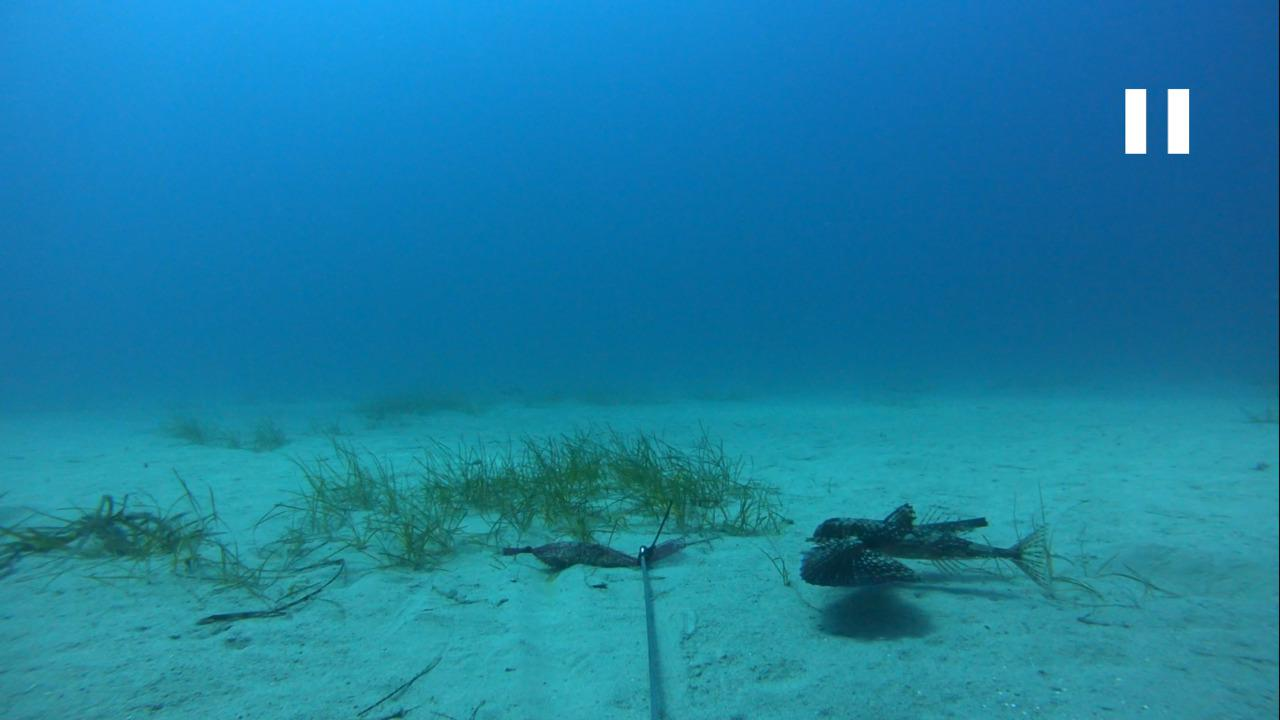dactylopterus: (792, 502, 1067, 594)
